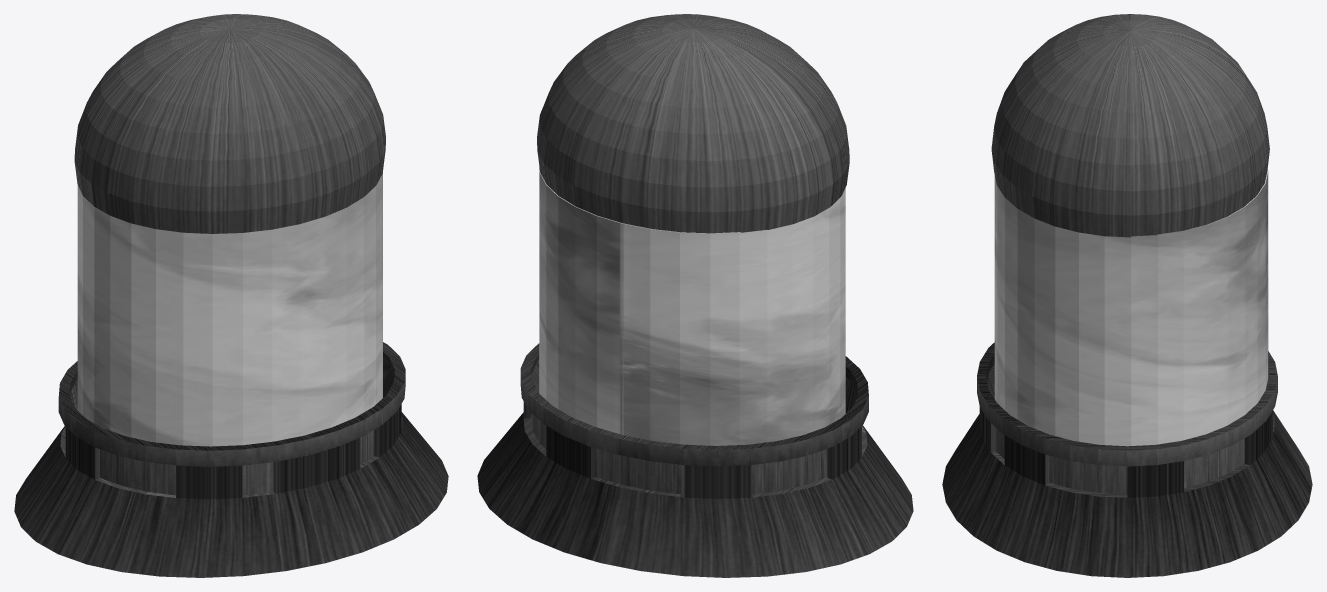
File: Target_Light.fbx
3 views of the same model, side by side, from view 1: azimuth 30°, elevation 25°; view 2: azimuth 150°, elevation 25°; view 3: azimuth 270°, elevation 25° (orthographic). The views are drawn at different scales.
Parts seen in each view (by area): view 1: Cylinder.003, Sphere, Cylinder, Cylinder.002, Cylinder.001; view 2: Cylinder.003, Sphere, Cylinder, Cylinder.002, Cylinder.001; view 3: Cylinder.003, Sphere, Cylinder, Cylinder.002, Cylinder.001.
Boxes of the visible parts, box(x1,y1,x2,y2) form: Cylinder.003: box(77, 172, 382, 446); Sphere: box(74, 14, 385, 233); Cylinder: box(14, 404, 448, 577); Cylinder.002: box(58, 342, 405, 466); Cylinder.001: box(70, 357, 394, 495); Cylinder.003: box(539, 167, 845, 445); Sphere: box(537, 14, 849, 233); Cylinder: box(477, 401, 913, 577); Cylinder.002: box(520, 343, 868, 466); Cylinder.001: box(532, 360, 857, 494); Cylinder.003: box(994, 169, 1268, 446); Sphere: box(991, 14, 1269, 237); Cylinder: box(942, 407, 1312, 577); Cylinder.002: box(977, 342, 1277, 466); Cylinder.001: box(987, 364, 1244, 494).
Bounding box in the file's own units: 73.52 × 83.22 × 61.54.
2 materials, 2 textured.
